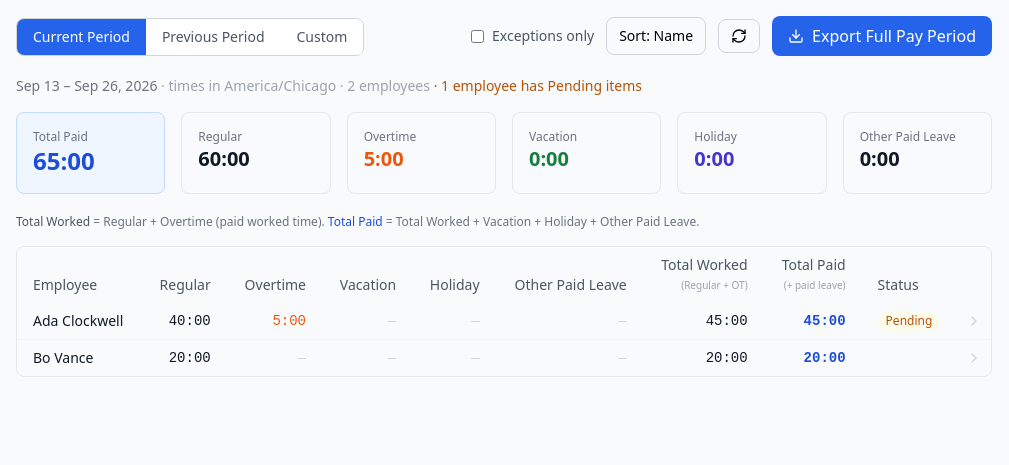
Test case: Current Period is the same period in both tabs › both tabs show the same resolved period, and Custom opens both on it
Later steps or results of the test are not shown.
Expected: the element with test id "period-heading" shows "Sep 13 – Sep 26, 2026", [16, 76, 157, 95]
Click the button "Custom" at (322, 37), box [280, 19, 363, 55]
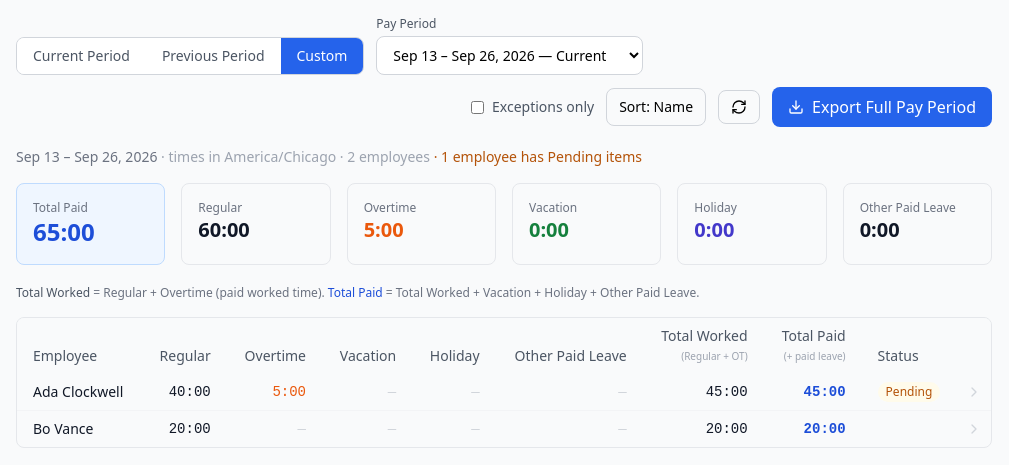
Expected: the dropdown labelled "Pay Period" shows "Sep 13 – Sep 26, 2026 — Current", [376, 36, 643, 75]
